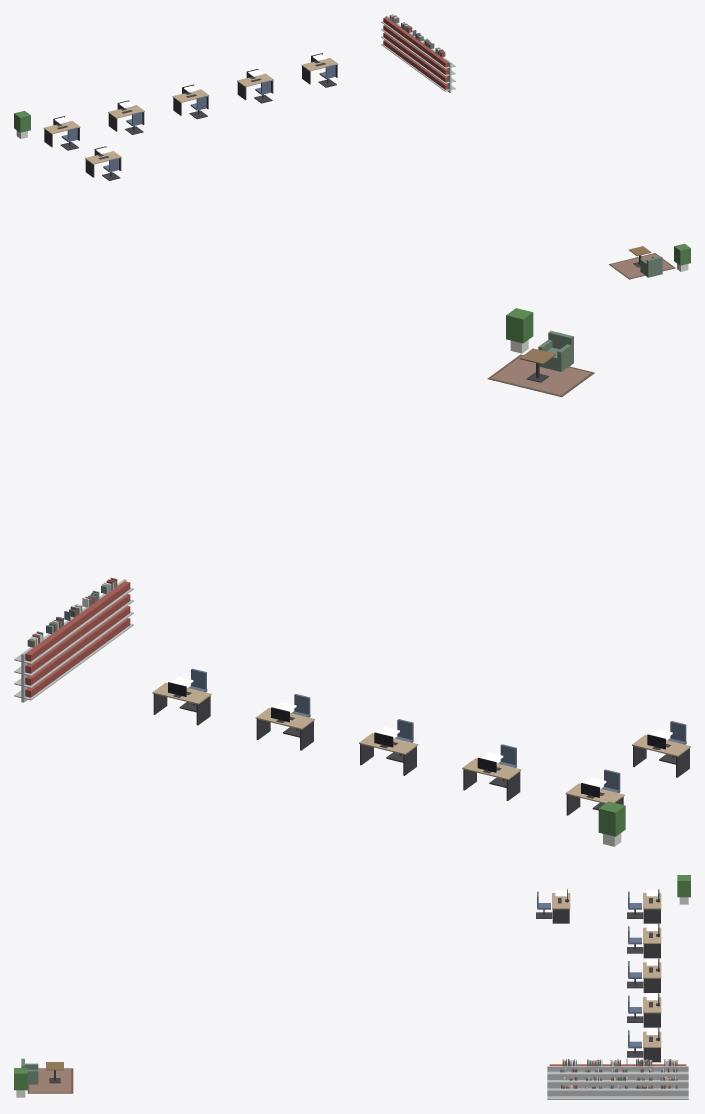
The model's file is fine-s1.glb.
3 views of the same model, one above another, from view 1: azimuth 30°, elevation 25°; view 2: azimuth 150°, elevation 25°; view 3: azimuth 270°, elevation 25° (orthographic). The views are drawn at different scales.
Parts seen in each view (by area): view 1: soft-s1, shelving.005, shelving.001, shelving.003, office-desk-real.003, office-desk-real.005, office-desk-real.001, office-desk-real.002, office-desk-real.004, office-desk-real.000, shelving.004, shelving.002 (+1 smaller); view 2: soft-s1, shelving.001, shelving.003, office-desk-real.004, office-desk-real.001, office-desk-real.003, office-desk-real.002, office-desk-real.005, shelving.005, shelving.002, shelving.004, plant-medium.001 (+3 smaller); view 3: soft-s1, shelving.001, shelving.005, shelving.003, shelving.004, shelving.002, office-desk-real.001, office-desk-real.000, office-desk-real.002, office-desk-real.003, office-desk-real.005, office-desk-real.004 (+2 smaller).
Boxes of the visible parts, left/top/right/bottom form: soft-s1: left=389, top=14, right=675, bottom=279; shelving.005: left=427, top=50, right=455, bottom=92; shelving.001: left=381, top=16, right=402, bottom=57; shelving.003: left=404, top=33, right=425, bottom=74; office-desk-real.003: left=237, top=69, right=273, bottom=100; office-desk-real.005: left=85, top=146, right=121, bottom=177; office-desk-real.001: left=108, top=100, right=144, bottom=131; office-desk-real.002: left=172, top=84, right=209, bottom=115; office-desk-real.004: left=301, top=53, right=338, bottom=84; office-desk-real.000: left=43, top=116, right=80, bottom=147; shelving.004: left=415, top=42, right=437, bottom=82; shelving.002: left=392, top=24, right=415, bottom=66; soft-s1: left=27, top=354, right=594, bottom=647; shelving.001: left=14, top=634, right=60, bottom=702; shelving.003: left=64, top=607, right=97, bottom=673; office-desk-real.004: left=152, top=682, right=211, bottom=725; office-desk-real.001: left=462, top=757, right=521, bottom=800; office-desk-real.003: left=255, top=707, right=314, bottom=750; office-desk-real.002: left=359, top=732, right=418, bottom=775; office-desk-real.005: left=632, top=734, right=690, bottom=777; shelving.005: left=99, top=579, right=133, bottom=646; shelving.002: left=43, top=619, right=79, bottom=686; shelving.004: left=80, top=593, right=115, bottom=657; plant-medium.001: left=598, top=801, right=625, bottom=846; soft-s1: left=27, top=1058, right=677, bottom=1093; shelving.001: left=647, top=1064, right=688, bottom=1099; shelving.005: left=547, top=1064, right=587, bottom=1099; shelving.003: left=597, top=1064, right=638, bottom=1099; shelving.004: left=572, top=1064, right=613, bottom=1099; shelving.002: left=622, top=1064, right=663, bottom=1099; office-desk-real.001: left=643, top=924, right=661, bottom=958; office-desk-real.000: left=643, top=889, right=661, bottom=923; office-desk-real.002: left=643, top=958, right=661, bottom=992; office-desk-real.003: left=643, top=993, right=661, bottom=1027; office-desk-real.005: left=552, top=889, right=570, bottom=923; office-desk-real.004: left=643, top=1028, right=661, bottom=1062.
Bounding box in the file's own units: 21.03 × 1.93 × 29.72.
